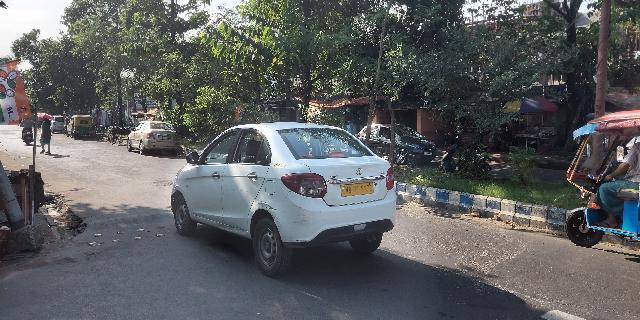Autorickshaw: (69, 113, 95, 142)
Car: (166, 118, 400, 279), (125, 118, 178, 155)
Rickshaw: (560, 107, 640, 254)
